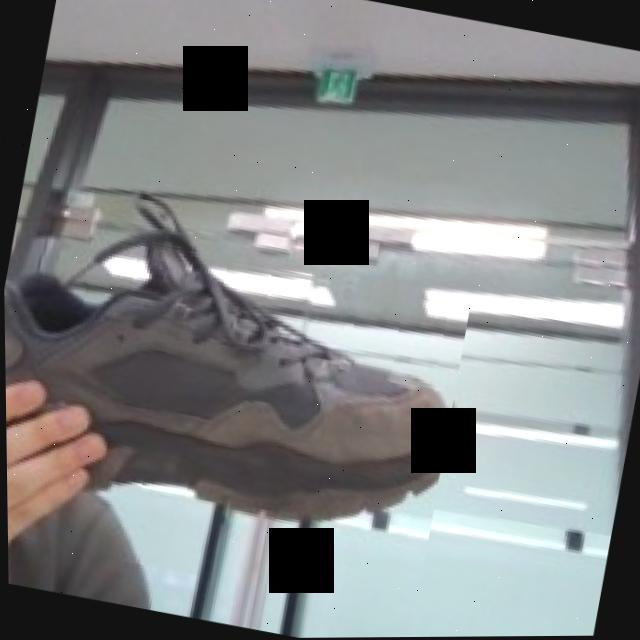shoe: (3, 214, 474, 619)
